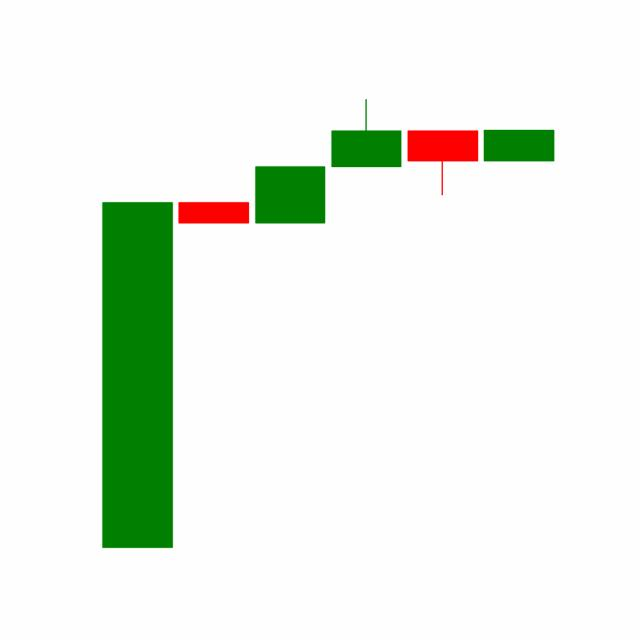Hanging Man: (403, 128, 481, 196)
